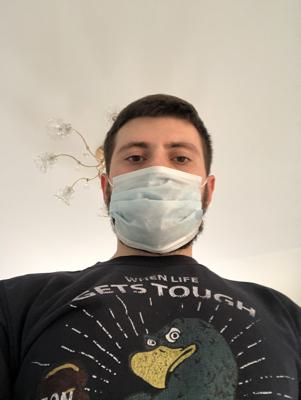mask: (109, 134, 206, 253)
